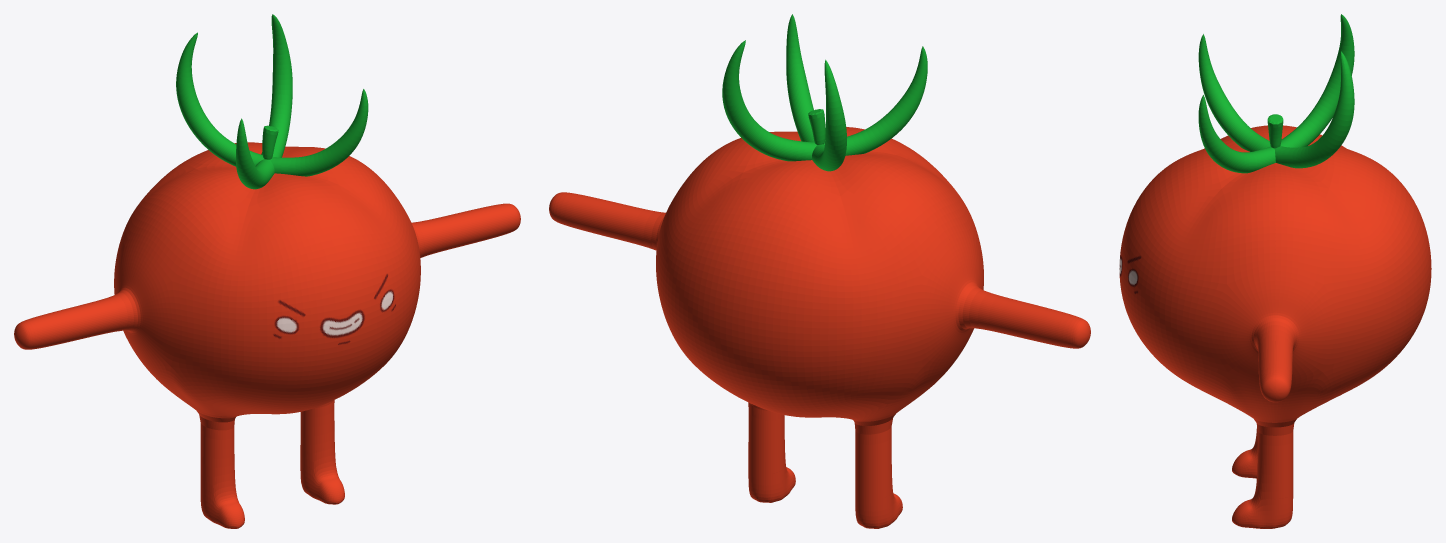
File: tomate.fbx
3 views of the same model, side by side, from view 1: azimuth 30°, elevation 25°; view 2: azimuth 150°, elevation 25°; view 3: azimuth 270°, elevation 25° (orthographic). The views are drawn at different scales.
Visible parts, largest first — view 1: tomate, Hojas; view 2: tomate, Hojas; view 3: tomate, Hojas.
Boxes of the visible parts, bbox=[...] form: tomate: bbox=[14, 142, 520, 528]; Hojas: bbox=[176, 14, 368, 189]; tomate: bbox=[549, 127, 1090, 528]; Hojas: bbox=[722, 14, 927, 171]; tomate: bbox=[1119, 125, 1431, 528]; Hojas: bbox=[1198, 14, 1354, 173].
Size of the model in its own units: 81.88 by 71.22 by 43.1.
